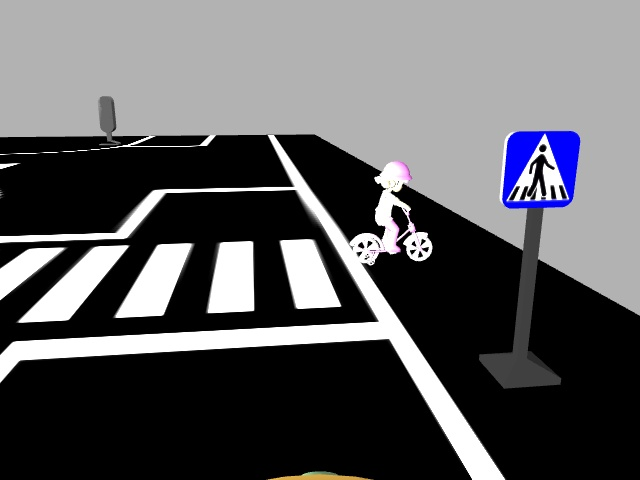Crosswalk: (495, 126, 579, 214)
Pedestrian: (346, 154, 436, 268)
